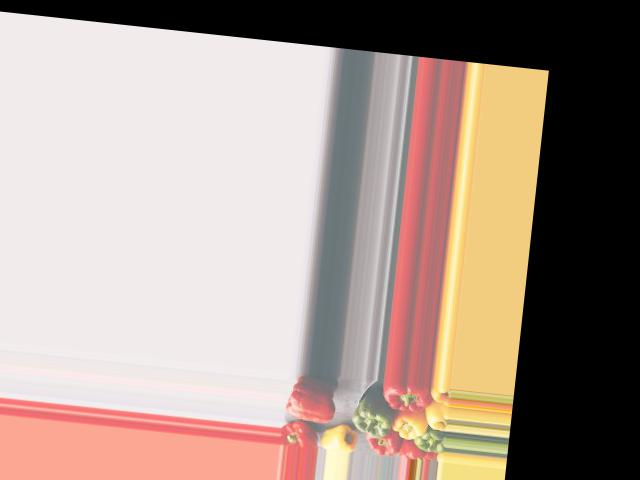bell_pepper: (278, 419, 320, 446)
